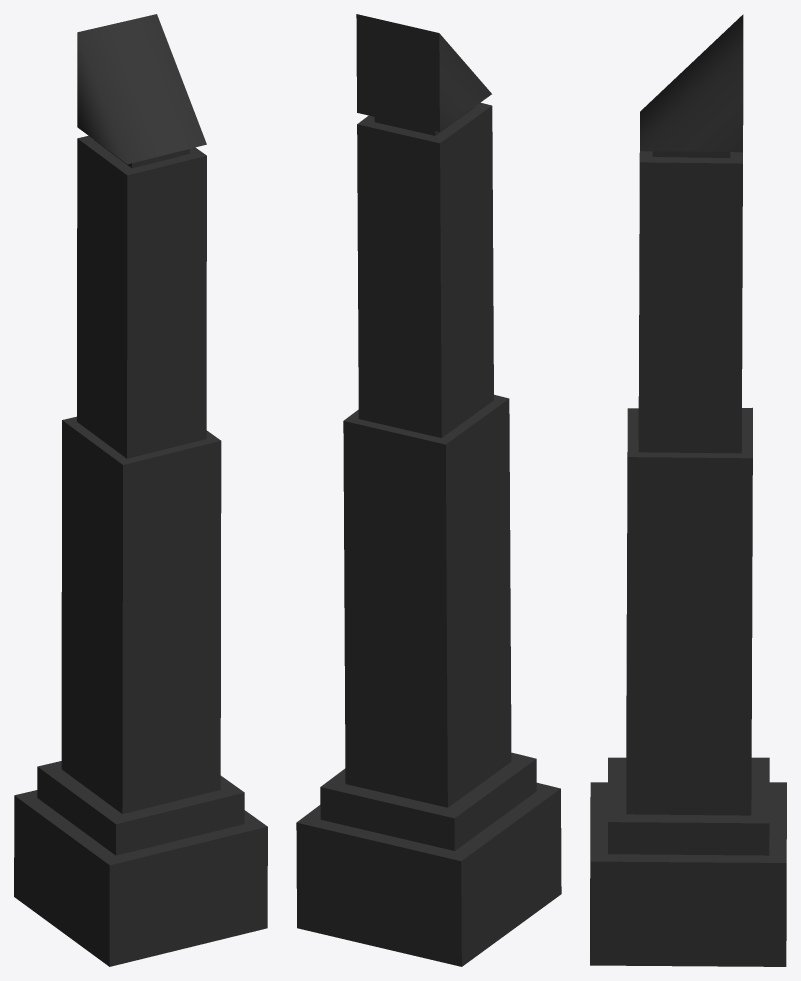
File: BridgePortBroken.fbx
3 views of the same model, side by side, from view 1: azimuth 30°, elevation 25°; view 2: azimuth 150°, elevation 25°; view 3: azimuth 270°, elevation 25° (orthographic). The views are drawn at different scales.
Parts seen in each view (by area): view 1: Cube.002; view 2: Cube.002; view 3: Cube.002.
Part boxes in pixels (x1,y1,x2,y2): Cube.002: (14, 14, 267, 966); Cube.002: (296, 14, 561, 966); Cube.002: (590, 14, 786, 966).
Size of the model in its own units: 105 by 550 by 110.
